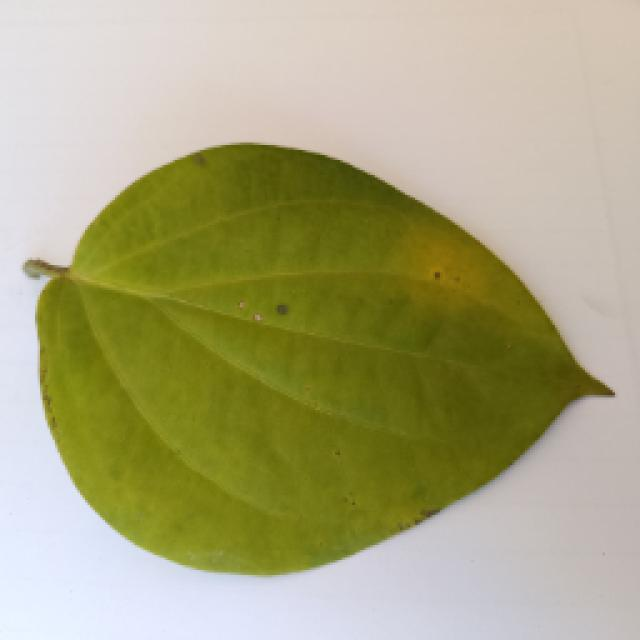slow-decline: (28, 143, 608, 575)
